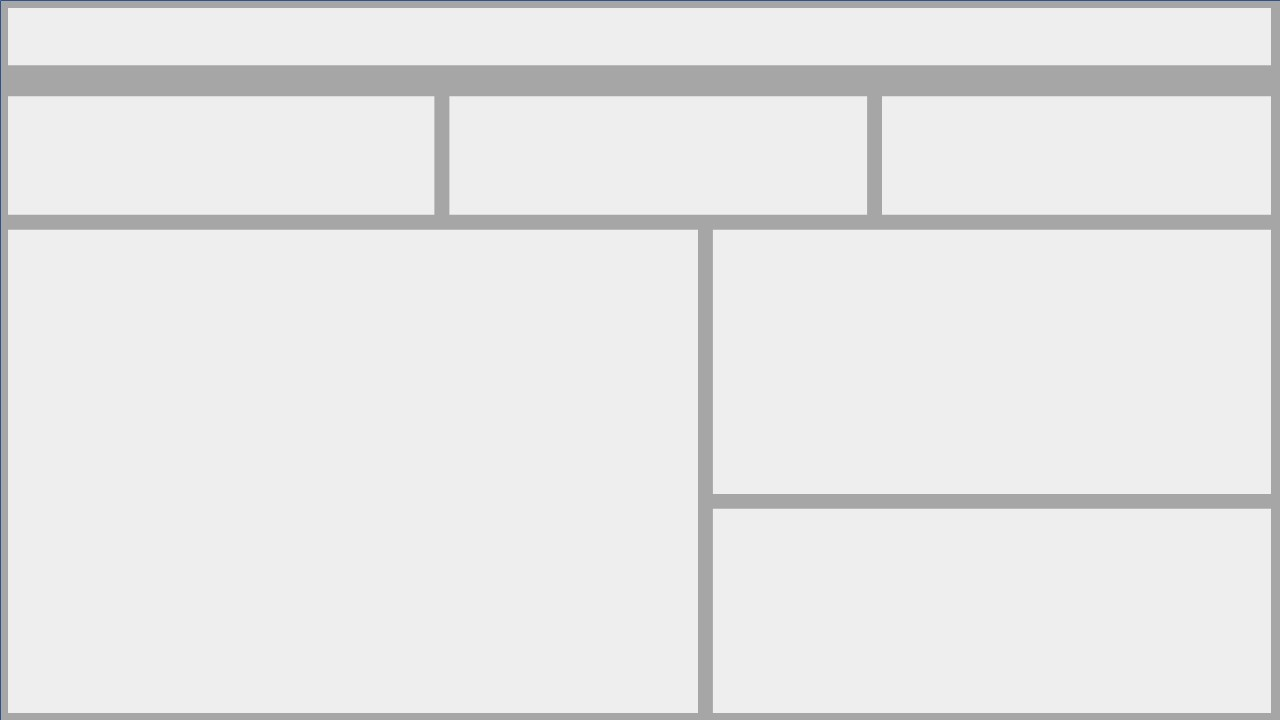

This screenshot's page, from the dashboard's own definition file:
{"tool":"tableau","page":{"name":"Dashboard LIGHT","canvas":[1200,680],"ordinal":1},"visuals":[{"type":"image","param":"D:/tableau/project_12109777/project/Sales Dashboard Background/Slide5.JPG","box":[8,8,1184,664]},{"type":"text","box":[16,18,810,48]},{"type":"dashboard-object","box":[1039,21,47,42]},{"type":"dashboard-object","box":[863,25,164,38]},{"type":"filter","title":"Sales and Profit by State","param":"[federated.0m3qvh21rrme3j134yyo20wzaxf3].[none:Category:nk]","box":[889,61,156,54]},{"type":"text","box":[15,70,595,30]},{"type":"worksheet","title":"Sales KPI","mark":"Automatic","box":[16,99,135,93]},{"type":"worksheet","title":"Quantity Sparkline","mark":"Automatic","rows":["min max profit month (copy)_302585608824328206"],"cols":["Order Date"],"box":[954,103,189,102]},{"type":"worksheet","title":"Sales Sparkline","mark":"Automatic","rows":["Calculation_302585608818597900"],"cols":["Order Date"],"box":[150,104,254,100]},{"type":"worksheet","title":"Profit Sparkline","mark":"Automatic","rows":["min max month (copy)_302585608822923277"],"cols":["Order Date"],"box":[551,104,250,101]},{"type":"worksheet","title":"Profit KPI","mark":"Automatic","box":[423,110,138,105]},{"type":"worksheet","title":"Quantity KPI","mark":"Automatic","box":[815,111,143,105]},{"type":"filter","title":"Sales and Profit by State","param":"[federated.0m3qvh21rrme3j134yyo20wzaxf3].[none:Region:nk]","box":[889,115,156,54]},{"type":"filter","title":"Sales and Profit by State","param":"[federated.0m3qvh21rrme3j134yyo20wzaxf3].[none:Ship Mode:nk]","box":[889,169,156,53]},{"type":"worksheet","title":"Sales and Profit by State","mark":"Circle","rows":["Row"],"cols":["Column","Column"],"box":[14,225,482,277]},{"type":"text","box":[666,229,158,30]},{"type":"legend","title":"Sales and Profit by State","param":"[federated.0m3qvh21rrme3j134yyo20wzaxf3].[sum:Calculation_302585608803823616:qk]","box":[495,231,155,43]},{"type":"text","box":[23,232,233,30]},{"type":"parameter","param":"[Parameters].[Parameter 1]","box":[942,233,187,22]},{"type":"worksheet","title":"Monthly Sales by Segment","mark":"Area","rows":["Calculation_302585608847978517"],"cols":["Segment","Order Date"],"box":[662,269,474,194]},{"type":"legend","title":"Sales and Profit by State","param":"[federated.0m3qvh21rrme3j134yyo20wzaxf3].[sum:Calculation_302585608803823616:qk]","box":[496,287,65,94]},{"type":"legend","title":"Sales and Profit by State","param":"[federated.0m3qvh21rrme3j134yyo20wzaxf3].[sum:Total CY Sales (copy)_302585608812","box":[577,288,140,114]},{"type":"worksheet","title":"Region Wise Sale","mark":"Circle","cols":["Region"],"box":[892,481,243,45]},{"type":"text","box":[668,486,159,30]},{"type":"text","box":[340,502,226,30]},{"type":"text","box":[28,503,224,30]},{"type":"worksheet","title":"Avg Sales by State","mark":"Circle","rows":["Row"],"cols":["Column"],"box":[33,526,209,135]},{"type":"worksheet","title":"Avg Profit by State","mark":"Circle","rows":["Row"],"cols":["Column"],"box":[348,528,230,131]},{"type":"worksheet","title":"Total Sales by location and Manager","mark":"Automatic","rows":["Country/Region","Regional Manager"],"cols":["Calculation_302585608803823616"],"box":[661,532,477,134]},{"type":"worksheet","title":"Avg Profit by State Count","mark":"Circle","rows":["Sales avg Color (copy)_302585608842358804"],"box":[578,573,70,57]},{"type":"worksheet","title":"Avg Sales by State Count","mark":"Circle","rows":["Calculation_302585608839053329"],"box":[252,575,60,49]}]}

Visuals, with their boxes in screenshot pixels (x1, y1, x2, y2), scaled from the page's 1200x680 canvas onto the 1280x720 screenshot:
image: rect(9, 8, 1271, 712)
text: rect(17, 19, 881, 70)
dashboard-object: rect(1108, 22, 1158, 67)
dashboard-object: rect(921, 26, 1095, 67)
"Sales and Profit by State" filter: rect(948, 65, 1115, 122)
text: rect(16, 74, 651, 106)
"Sales KPI" worksheet: rect(17, 105, 161, 203)
"Quantity Sparkline" worksheet: rect(1018, 109, 1219, 217)
"Sales Sparkline" worksheet: rect(160, 110, 431, 216)
"Profit Sparkline" worksheet: rect(588, 110, 854, 217)
"Profit KPI" worksheet: rect(451, 116, 598, 228)
"Quantity KPI" worksheet: rect(869, 118, 1022, 229)
"Sales and Profit by State" filter: rect(948, 122, 1115, 179)
"Sales and Profit by State" filter: rect(948, 179, 1115, 235)
"Sales and Profit by State" worksheet (Circle marks): rect(15, 238, 529, 532)
text: rect(710, 242, 879, 274)
"Sales and Profit by State" legend: rect(528, 245, 693, 290)
text: rect(25, 246, 273, 277)
parameter: rect(1005, 247, 1204, 270)
"Monthly Sales by Segment" worksheet (Area marks): rect(706, 285, 1212, 490)
"Sales and Profit by State" legend: rect(529, 304, 598, 403)
"Sales and Profit by State" legend: rect(615, 305, 765, 426)
"Region Wise Sale" worksheet (Circle marks): rect(951, 509, 1211, 557)
text: rect(713, 515, 882, 546)
text: rect(363, 532, 604, 563)
text: rect(30, 533, 269, 564)
"Avg Sales by State" worksheet (Circle marks): rect(35, 557, 258, 700)
"Avg Profit by State" worksheet (Circle marks): rect(371, 559, 617, 698)
"Total Sales by location and Manager" worksheet: rect(705, 563, 1214, 705)
"Avg Profit by State Count" worksheet (Circle marks): rect(617, 607, 691, 667)
"Avg Sales by State Count" worksheet (Circle marks): rect(269, 609, 333, 661)
